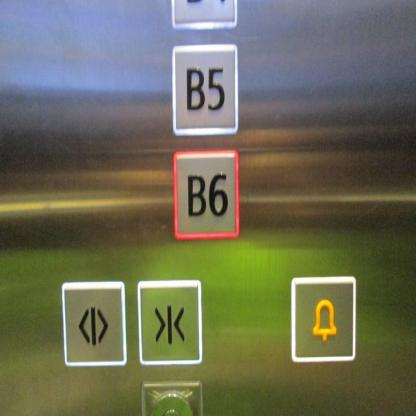B5: (169, 40, 241, 138)
B6: (168, 145, 241, 243)
alarm: (288, 274, 358, 365)
close: (135, 276, 203, 368)
open: (60, 278, 128, 369)
